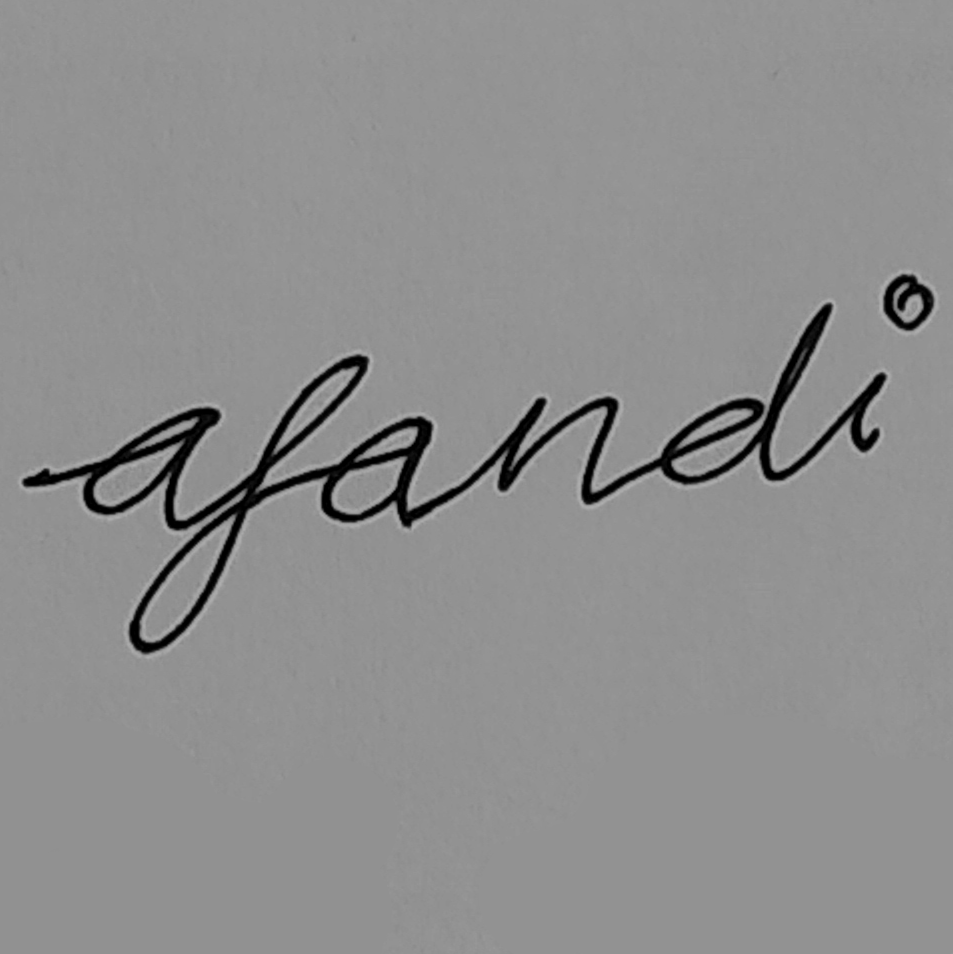a: (80, 403, 223, 532), (318, 413, 436, 532)
d: (657, 300, 835, 491)
f: (125, 352, 372, 657)
i: (844, 268, 941, 454)
n: (494, 390, 622, 508)
